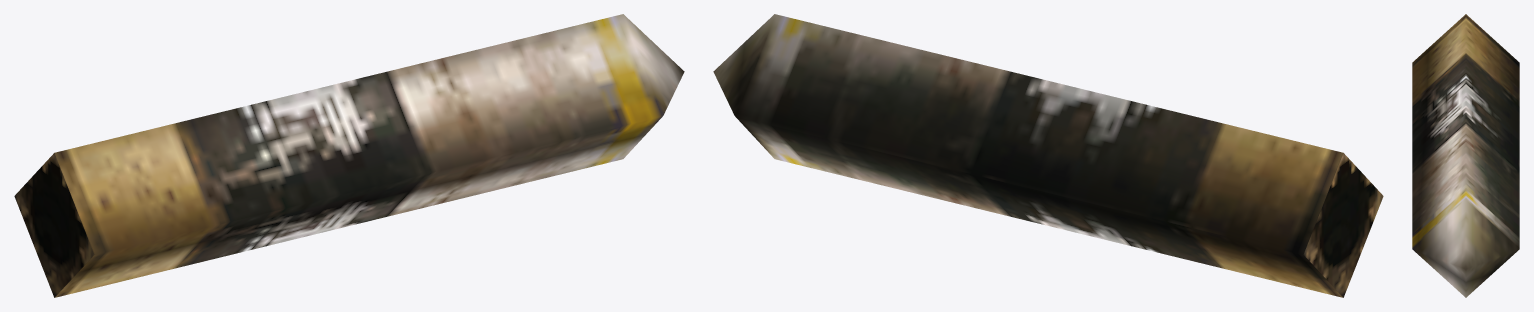
File: projectile_at4_LOD1.obj
The picture shows the model from 3 angles, left to right: view 1: azimuth 30°, elevation 25°; view 2: azimuth 150°, elevation 25°; view 3: azimuth 270°, elevation 25°; orthographic projection. The views are drawn at different scales.
Visible parts, largest first — view 1: mtl_weapon_at4; view 2: mtl_weapon_at4; view 3: mtl_weapon_at4.
Boxes of the visible parts, x1=… form: mtl_weapon_at4: x1=14, y1=14, x2=684, y2=297; mtl_weapon_at4: x1=713, y1=14, x2=1383, y2=297; mtl_weapon_at4: x1=1412, y1=14, x2=1519, y2=297.
Bounding box in the file's own units: 26.6 × 5.85 × 5.85.
